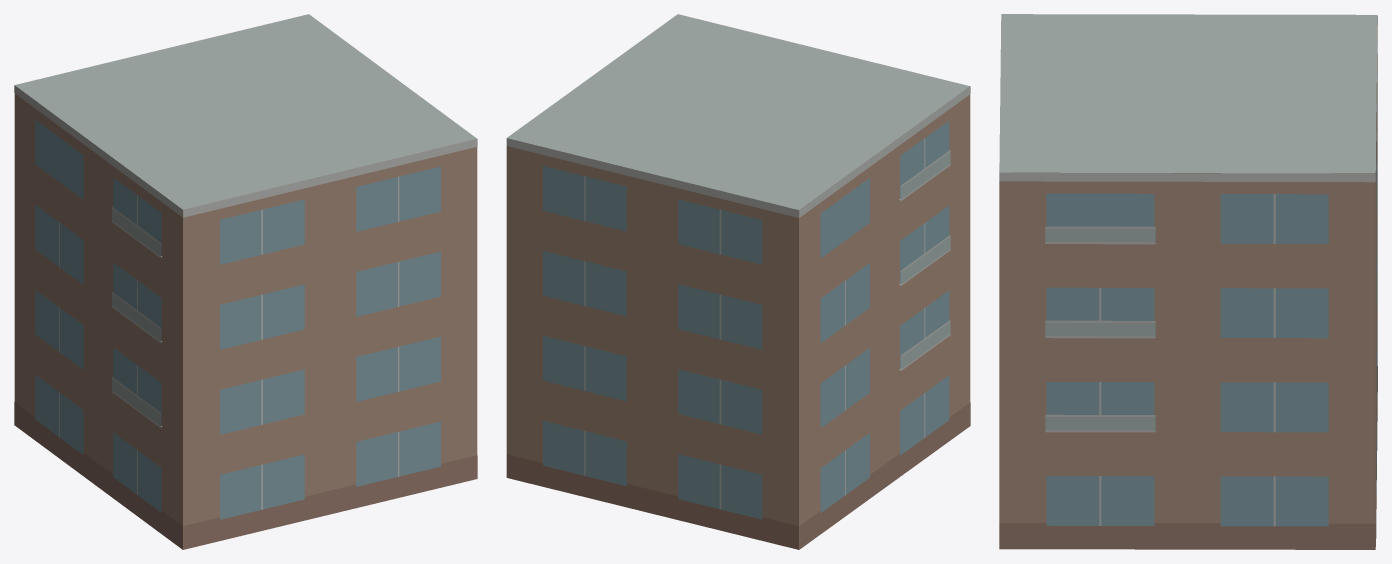
File: survey-upis-32652756.glb
3 renders of one model, left to right at view 1: azimuth 30°, elevation 25°; view 2: azimuth 150°, elevation 25°; view 3: azimuth 270°, elevation 25°, orthographic. The views are drawn at different scales.
Parts seen in each view (by area): view 1: survey-upis-32652756.tmp; view 2: survey-upis-32652756.tmp; view 3: survey-upis-32652756.tmp.
Part boxes in pixels (x1,y1,x2,y2): survey-upis-32652756.tmp: [14, 14, 477, 549]; survey-upis-32652756.tmp: [506, 14, 970, 549]; survey-upis-32652756.tmp: [999, 14, 1377, 549].
Bounding box in the file's own units: 9.58 × 10.5 × 9.57.
